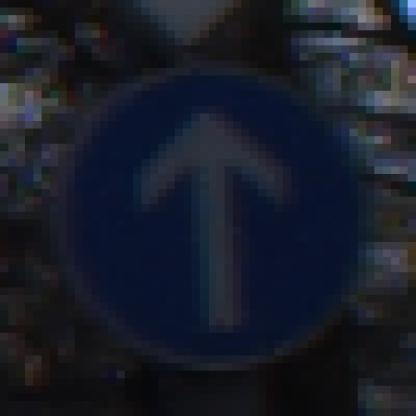AheadOnly: (43, 47, 376, 380)
